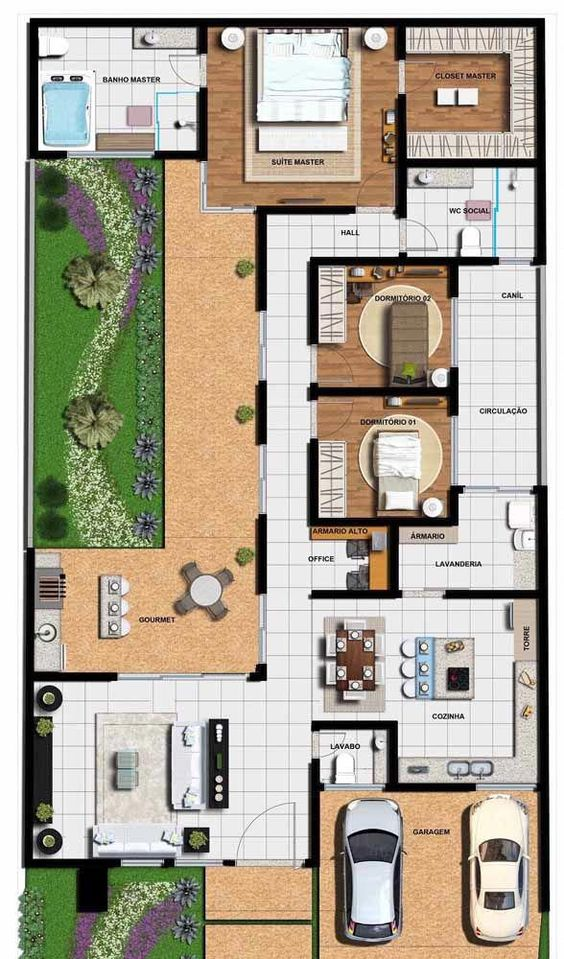door: (238, 795, 303, 858)
room: (18, 667, 323, 873), (194, 15, 411, 218), (386, 584, 553, 795), (19, 545, 269, 684), (26, 16, 208, 163), (24, 14, 206, 161), (22, 12, 204, 159), (24, 10, 206, 157), (392, 12, 551, 167), (302, 389, 465, 534), (305, 254, 463, 399), (306, 387, 463, 529), (382, 486, 551, 599), (395, 154, 546, 266), (302, 514, 399, 602), (303, 716, 398, 790)
wall: (25, 553, 33, 866), (536, 22, 545, 260), (313, 258, 497, 264), (255, 209, 266, 305), (243, 658, 276, 686), (255, 205, 355, 214), (31, 19, 37, 154), (314, 720, 392, 729), (311, 258, 319, 344), (311, 590, 393, 598), (389, 782, 475, 789), (311, 762, 317, 862), (446, 591, 545, 597), (259, 514, 266, 588), (259, 381, 266, 443), (199, 90, 205, 156), (198, 18, 204, 49)
